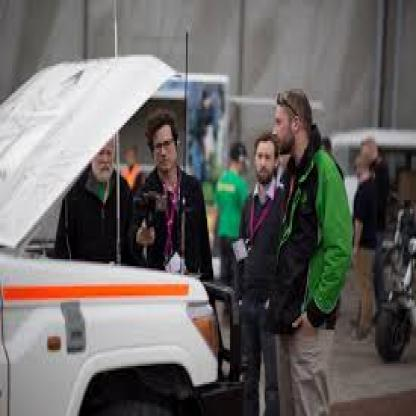person: (245, 79, 356, 414), (227, 114, 290, 414), (131, 102, 221, 284)
